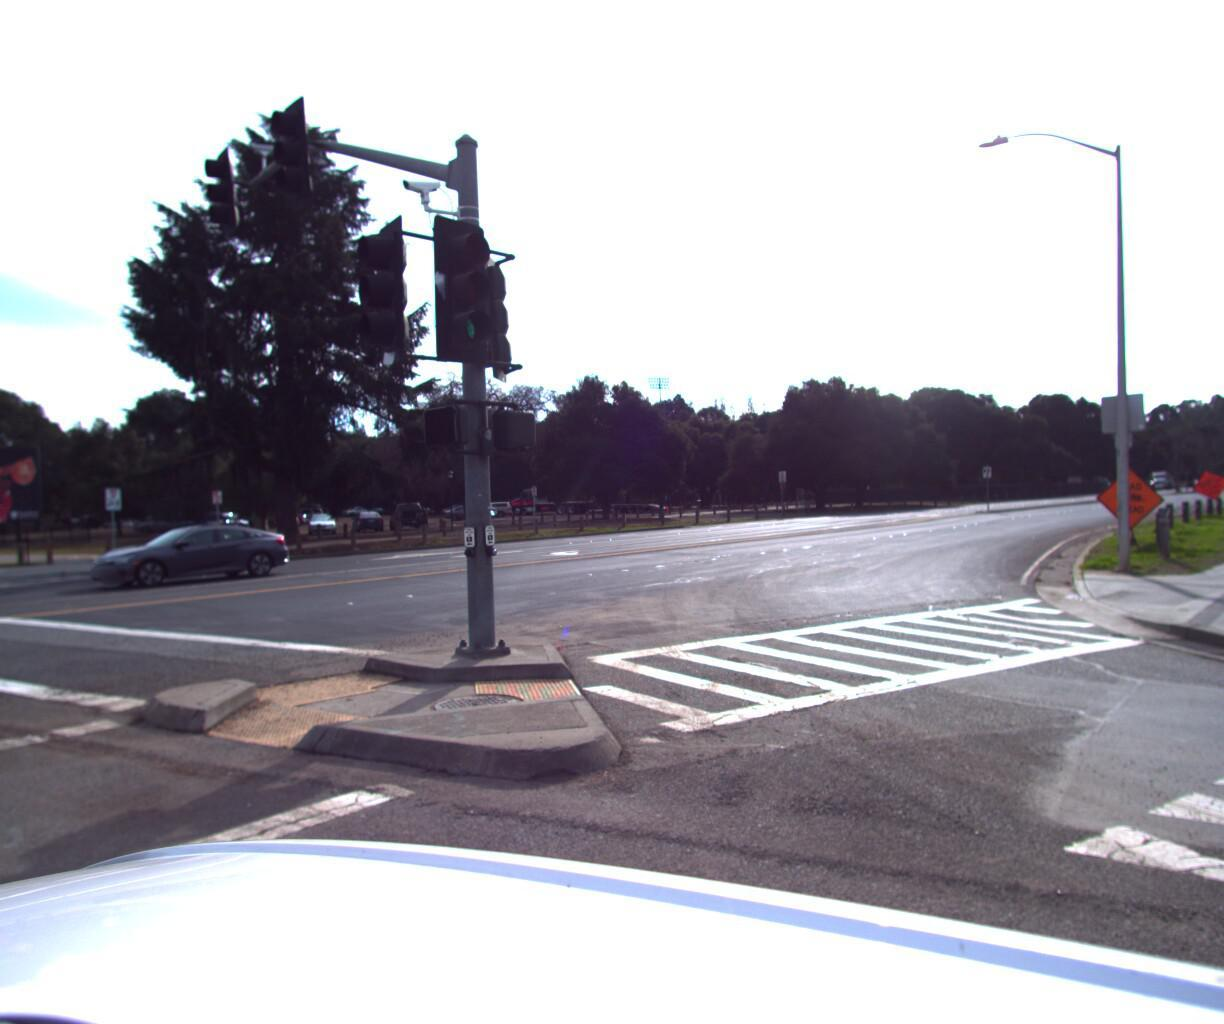car: (70, 519, 299, 592)
